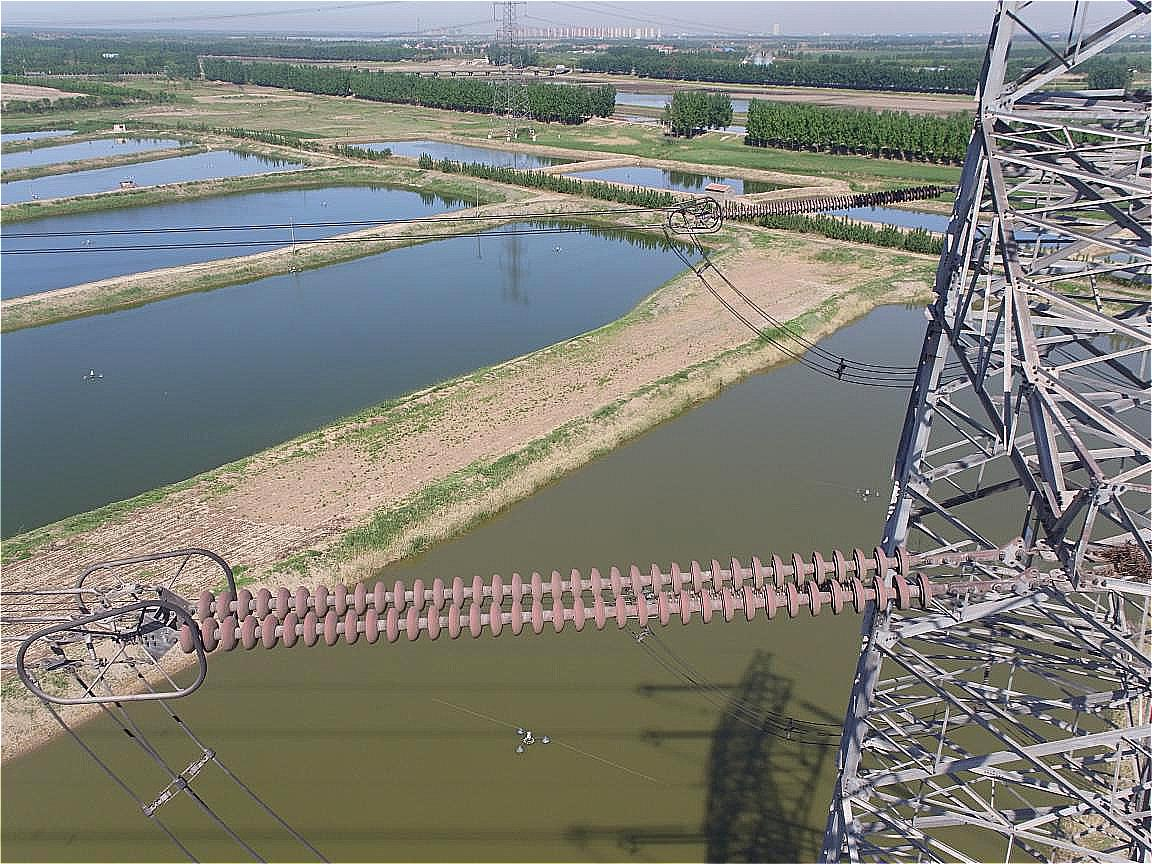insultor1: (180, 543, 933, 653)
insultor2: (713, 184, 942, 222)
